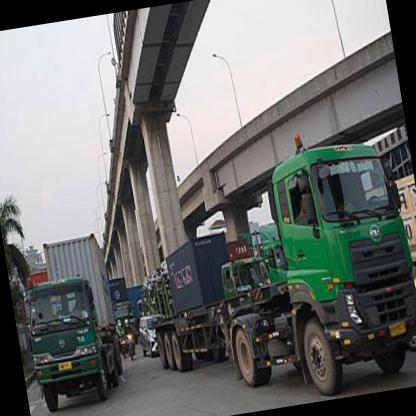truck: (264, 136, 416, 404), (20, 274, 114, 416)
